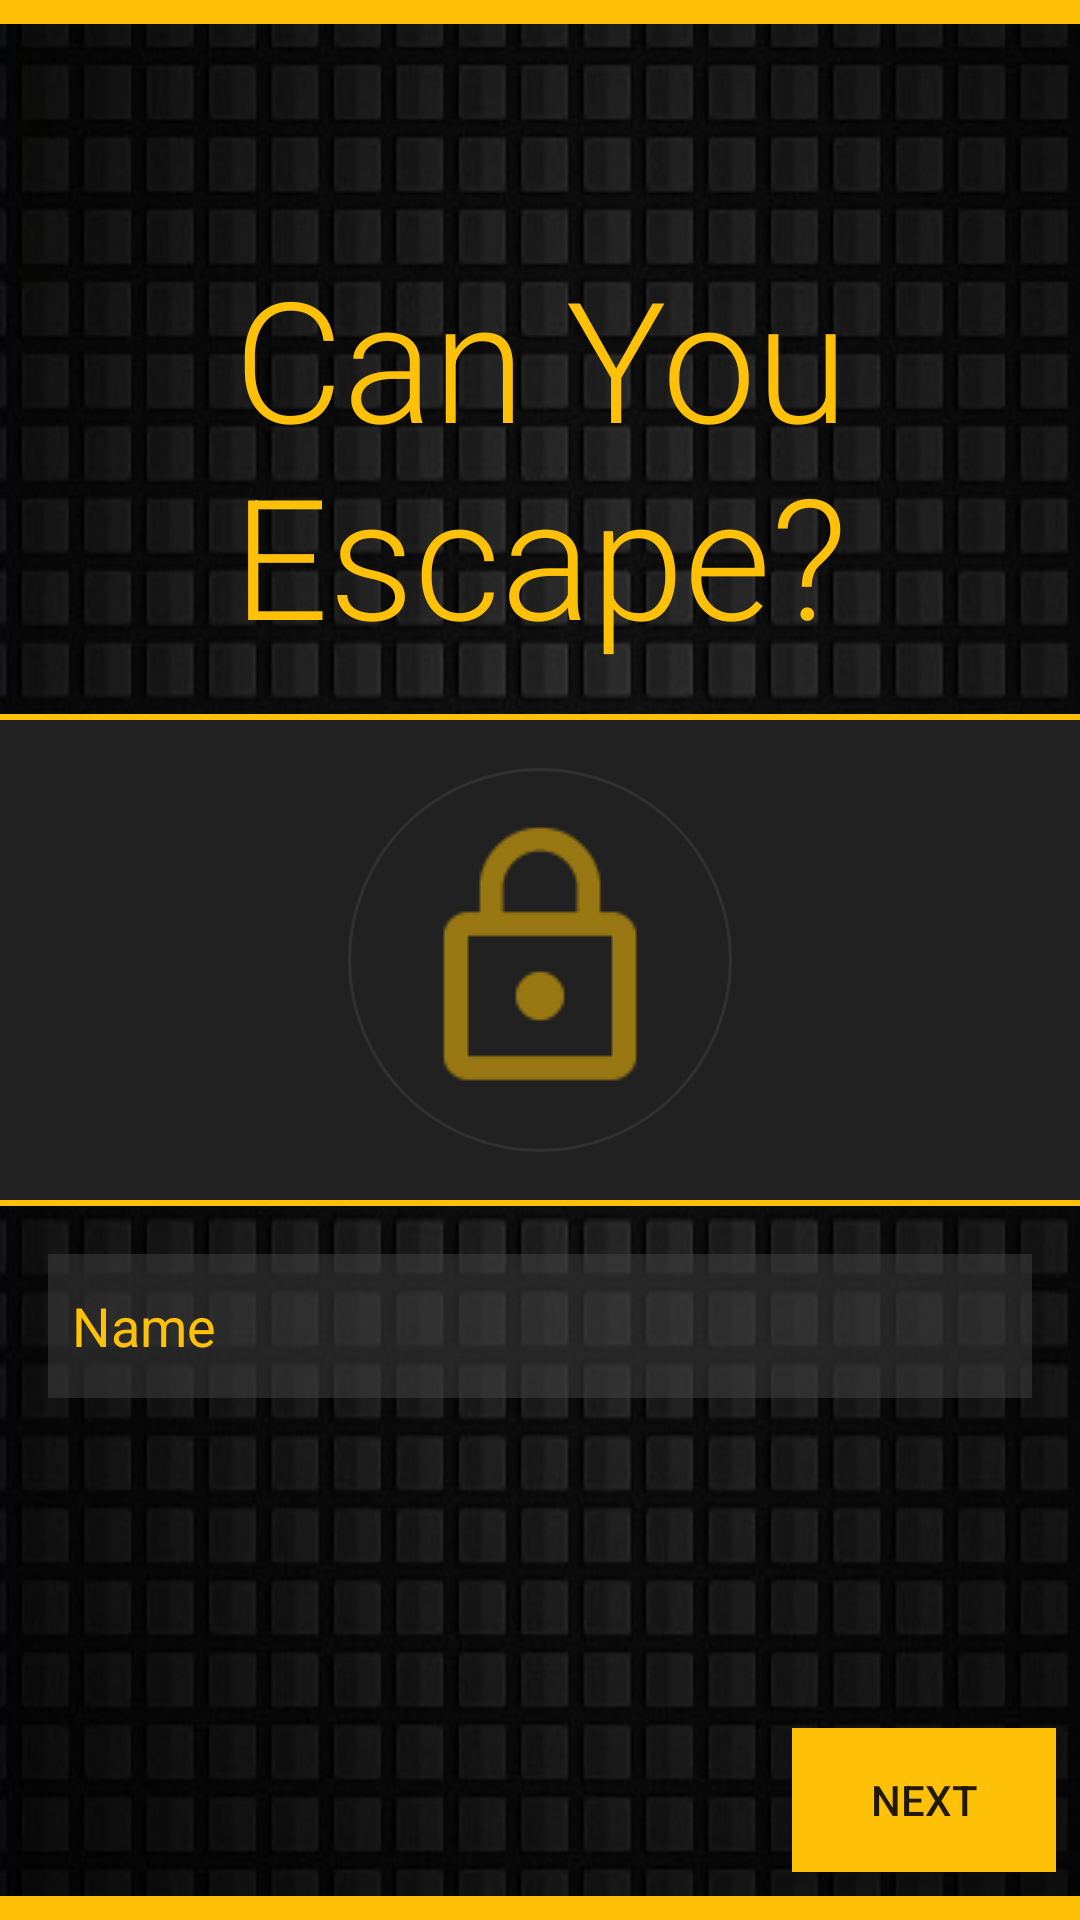

Icons on this 1080 × 1920 Android screen, each with the point to tap as (x=x, y=y):
lock grand: (x=540, y=954)
